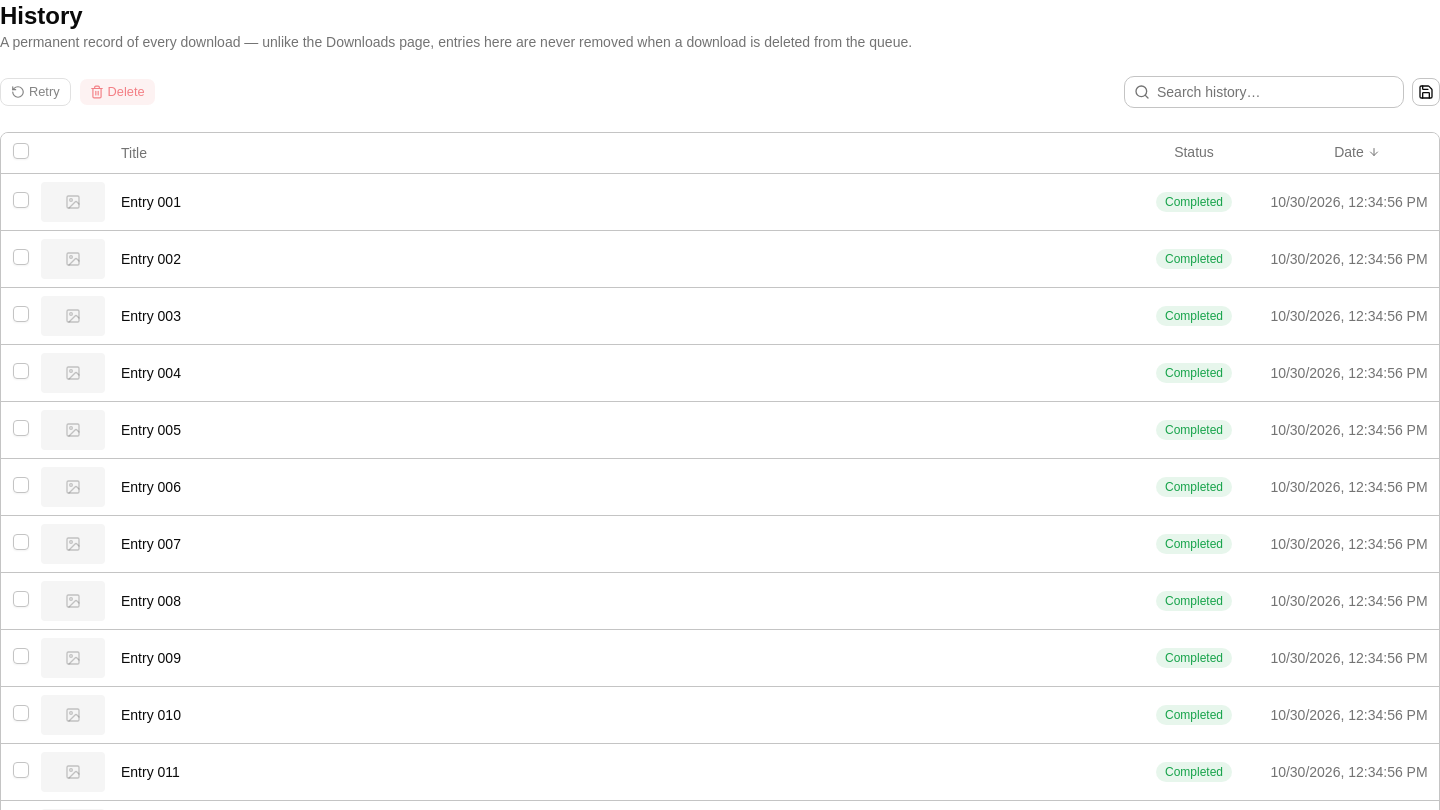
HistoryPage table › pages at 50 rows and clears the selection on a page change
The image size is (1440, 810).
expect the text "Entry 001" is shown: met, box [121,194,181,210]
Step 1. Press the mouse on the row "Entry 002 Completed 10/30/2026, 12:34:56 PM" → (720,258), box [1,230,1439,287]
(page scrolled)
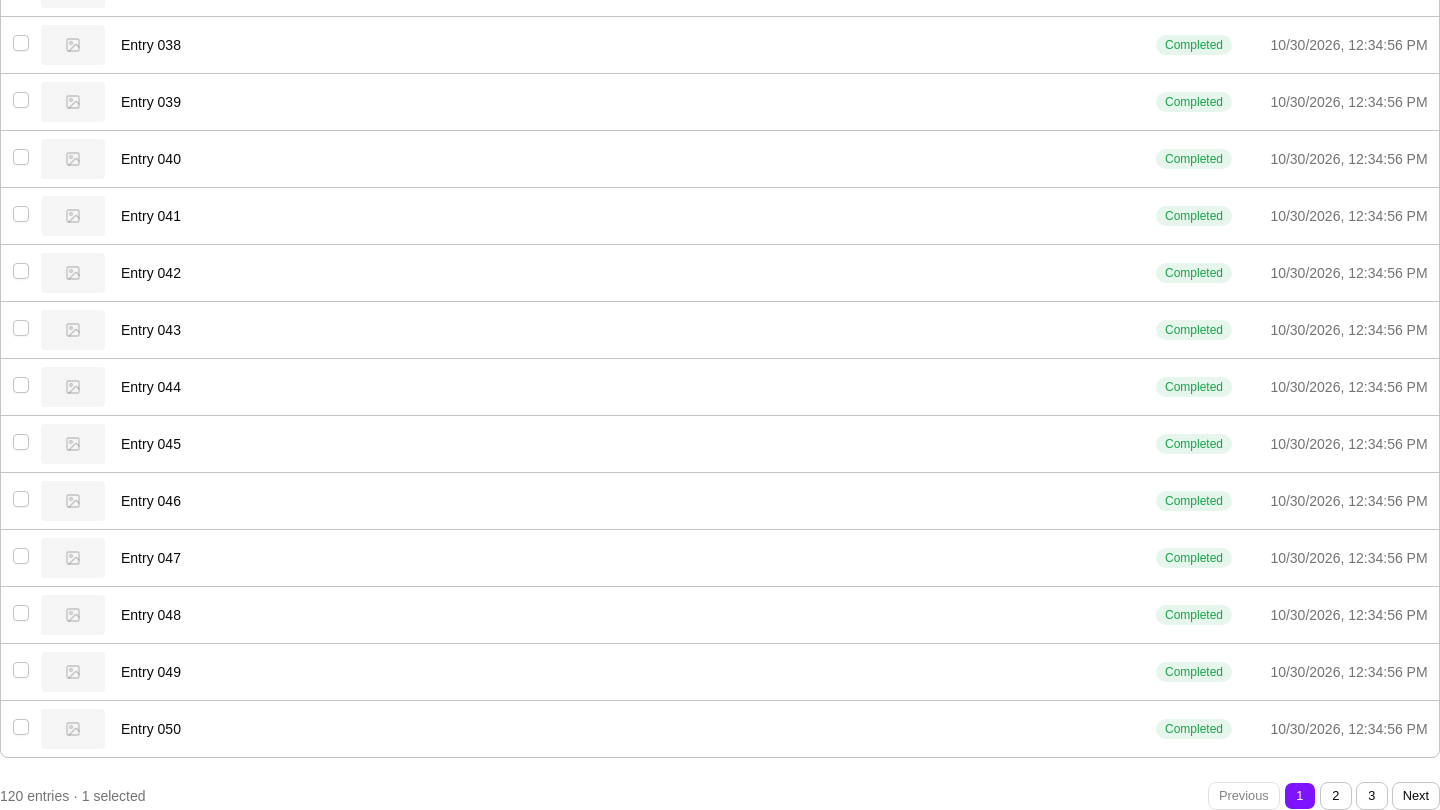
expect the text "120 entries · 1 selected" is shown: met, box [0,786,146,806]
Step 2. Click the button "2" → (1336,796), box [1320,782,1352,809]
(page scrolled)
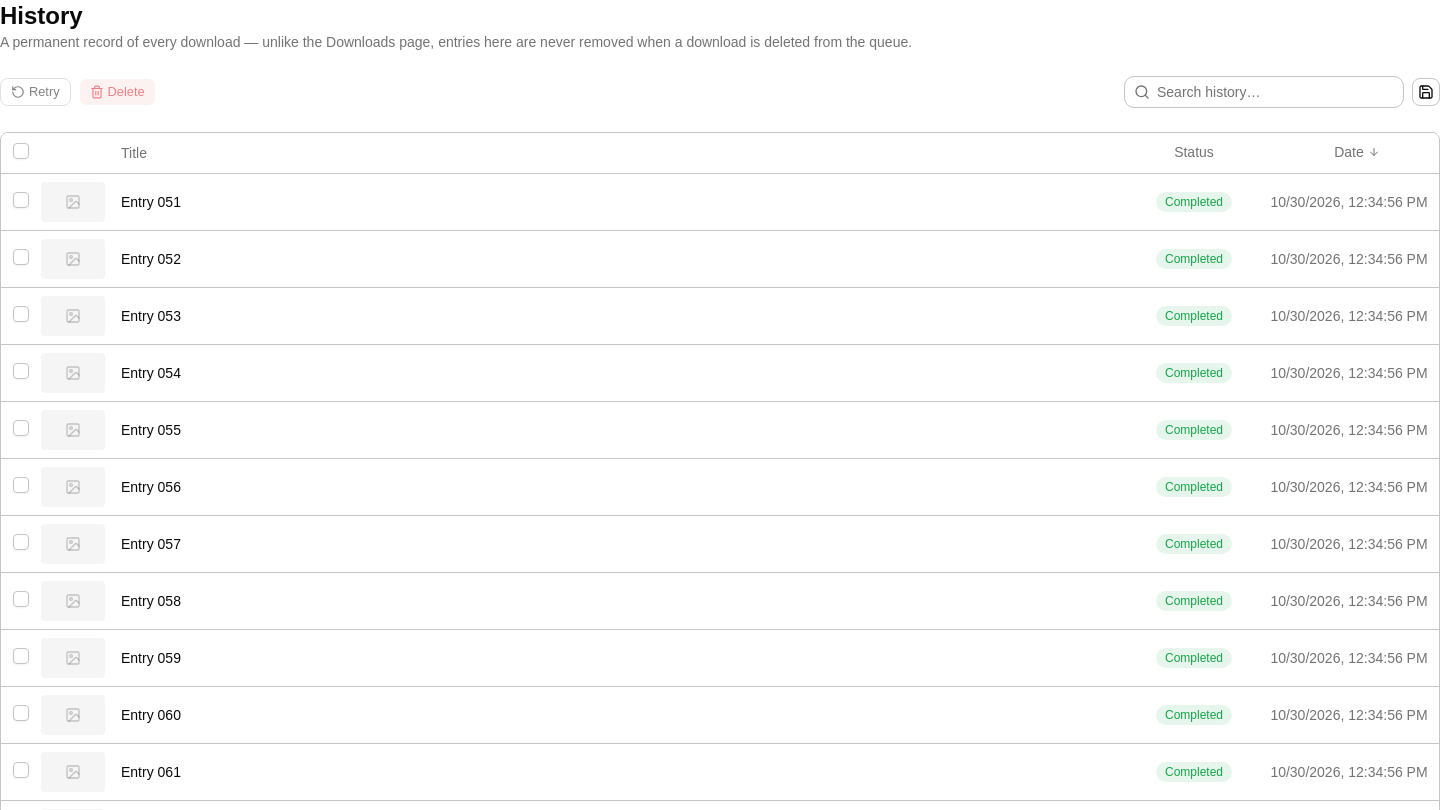
expect the text "Entry 051" is shown: met, box [121,194,181,210]
expect the button "Delete" is disabled: met, box [79,78,156,106]
